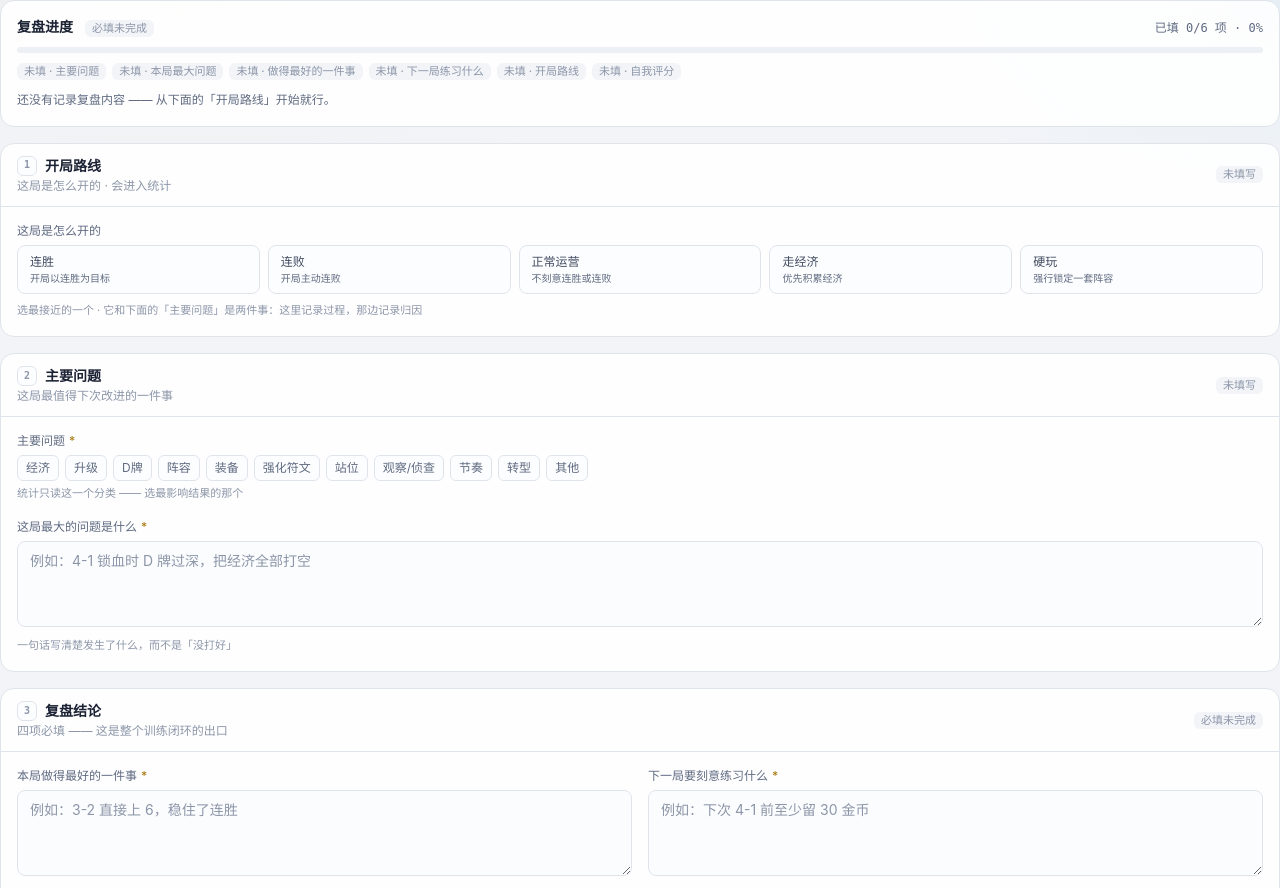
it: ReviewForm · section status › marks a section filled only when its whole answer is there
expect the text "未填写" in the row of "这局最值得下次改进的一件事" is shown: met, box [1223, 378, 1256, 392]
Click the button "站位".
click(347, 468)  # box [326, 455, 368, 481]
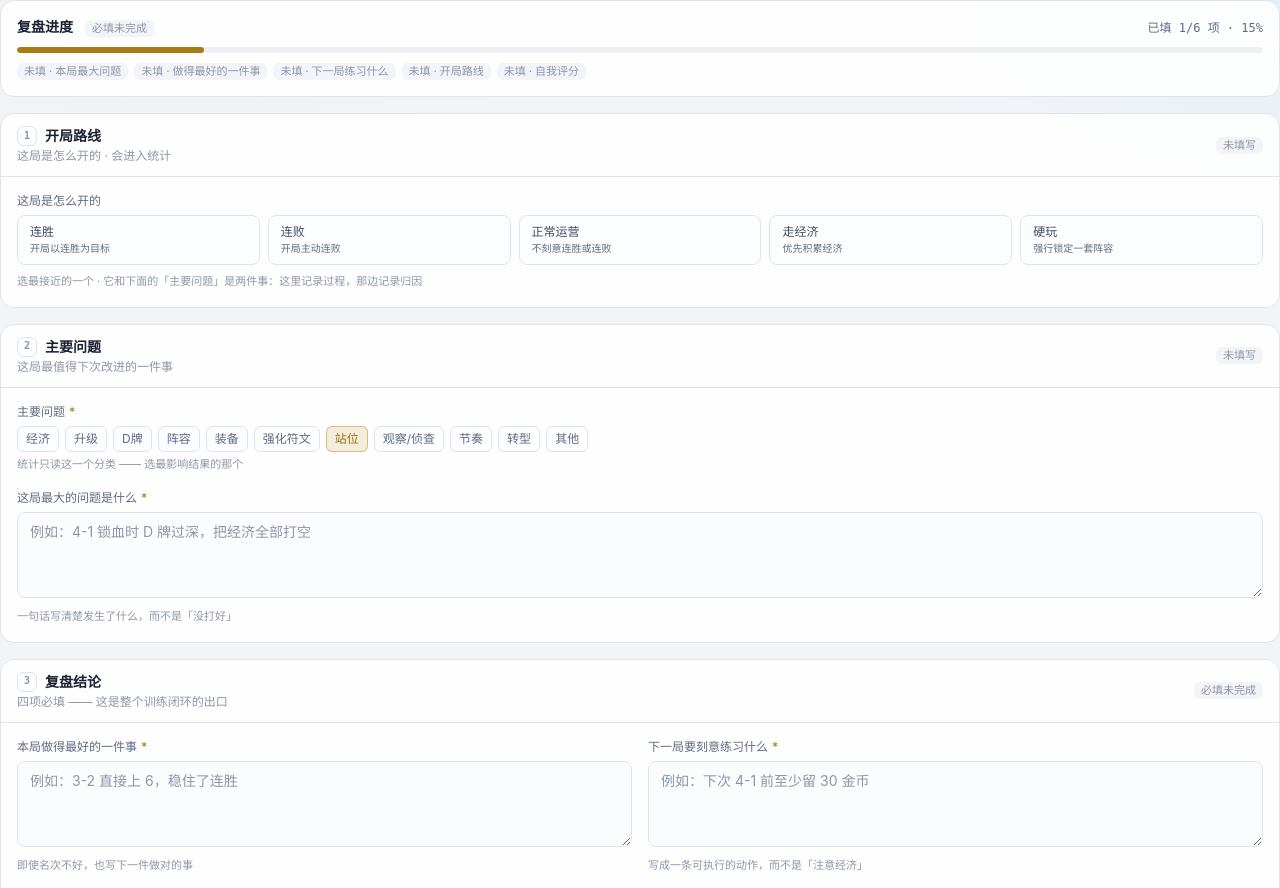
expect the text "未填写" in the row of "这局最值得下次改进的一件事" is shown: met, box [1223, 348, 1256, 362]
Type "主 C 站脸" into the text box labelled "这局最大的问题是什么 *".
click(640, 555); type("主 C 站脸")  # box [17, 512, 1263, 598]
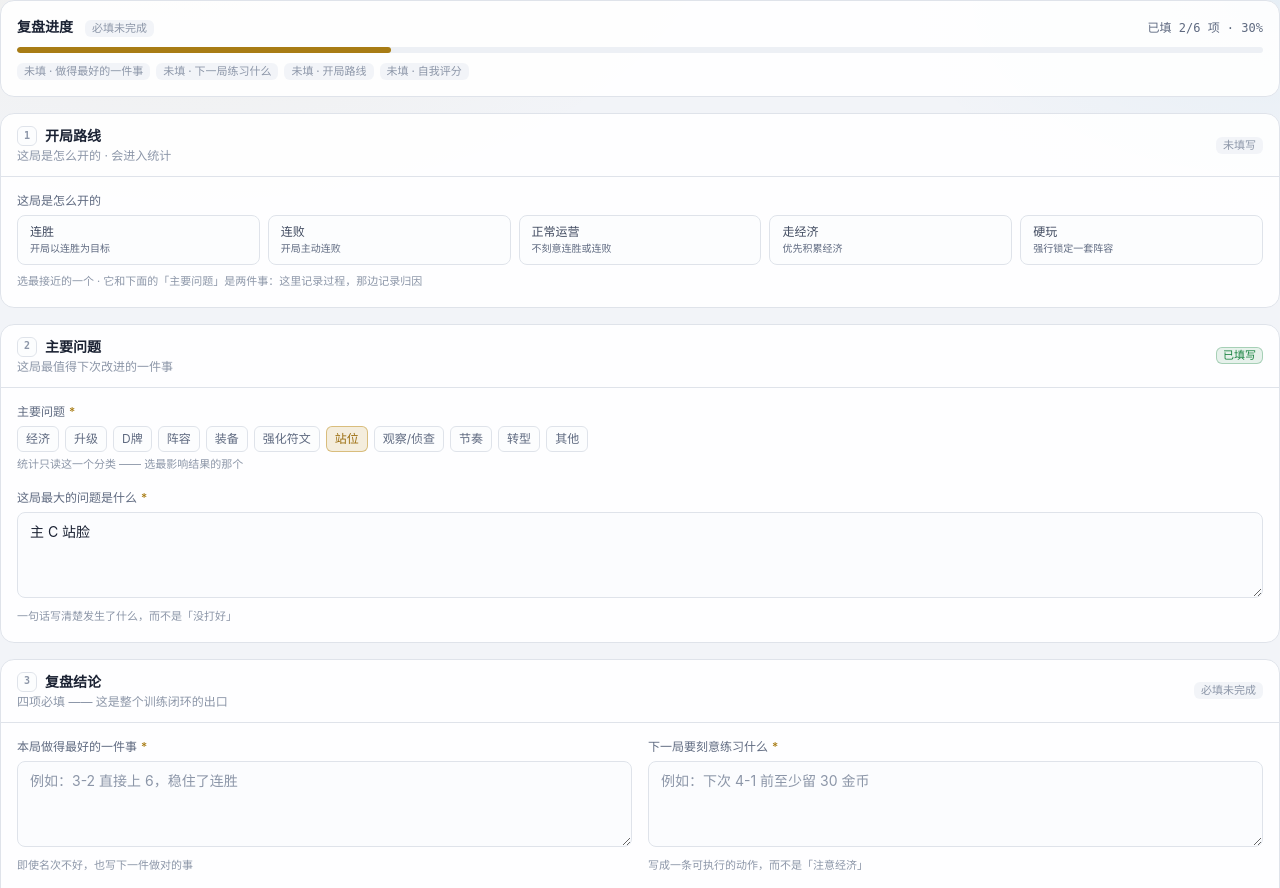
expect the text "已填写" is shown: met, box [1216, 347, 1263, 364]
